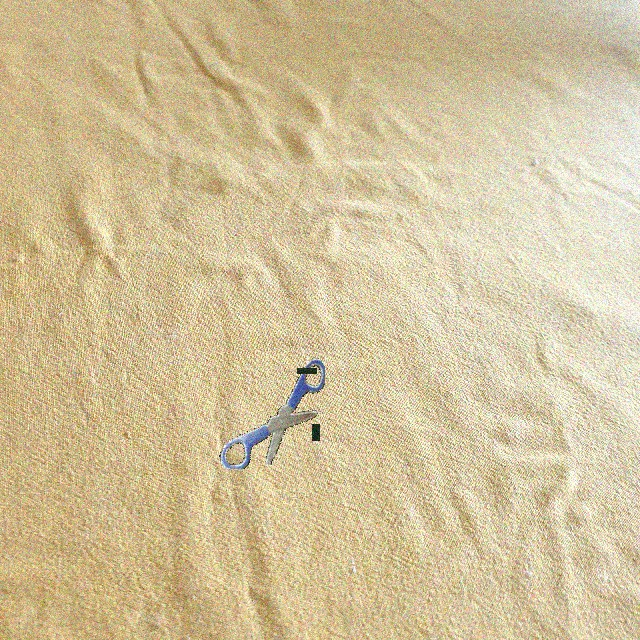scissors: (219, 358, 325, 469)
